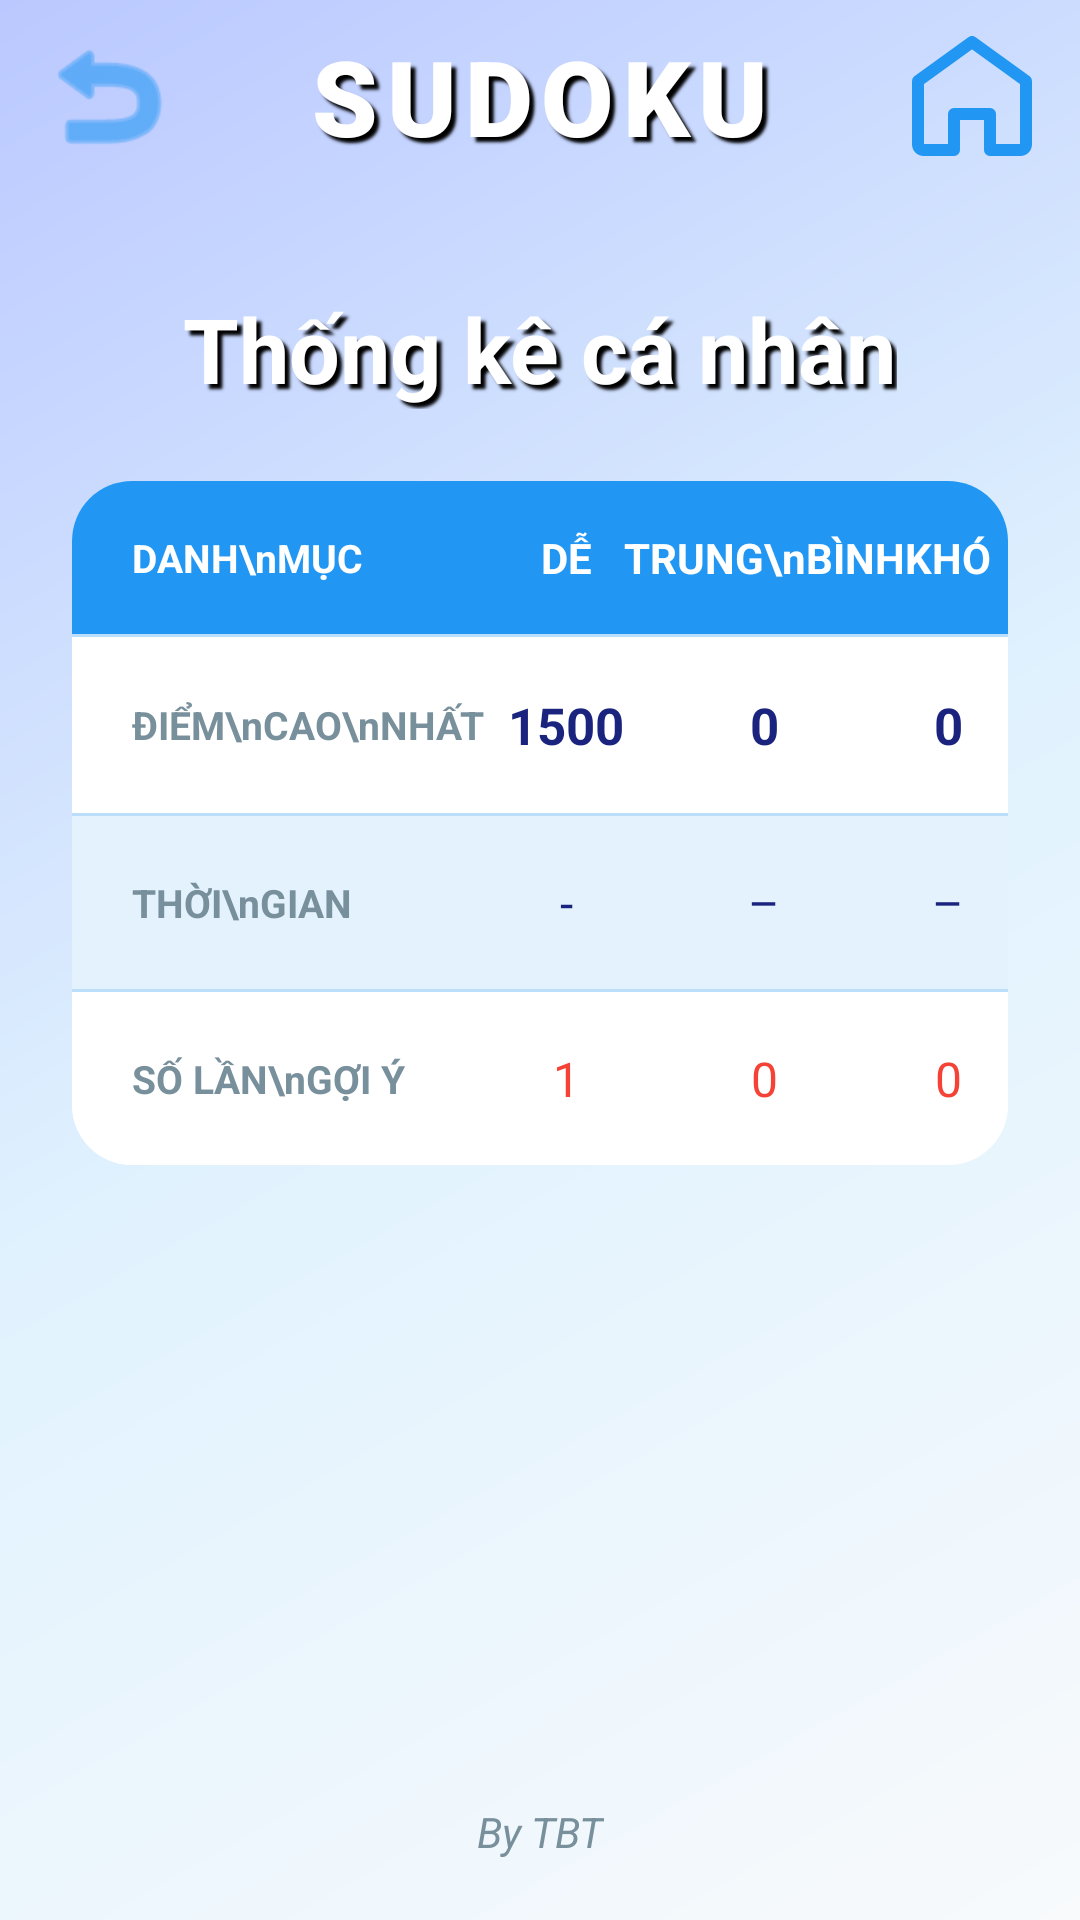

Icons on this 1080px x 1920px Android screen, each with its box as (x1, y1, x2, y2):
Back: (58, 50, 162, 144)
Home: (912, 36, 1032, 156)
